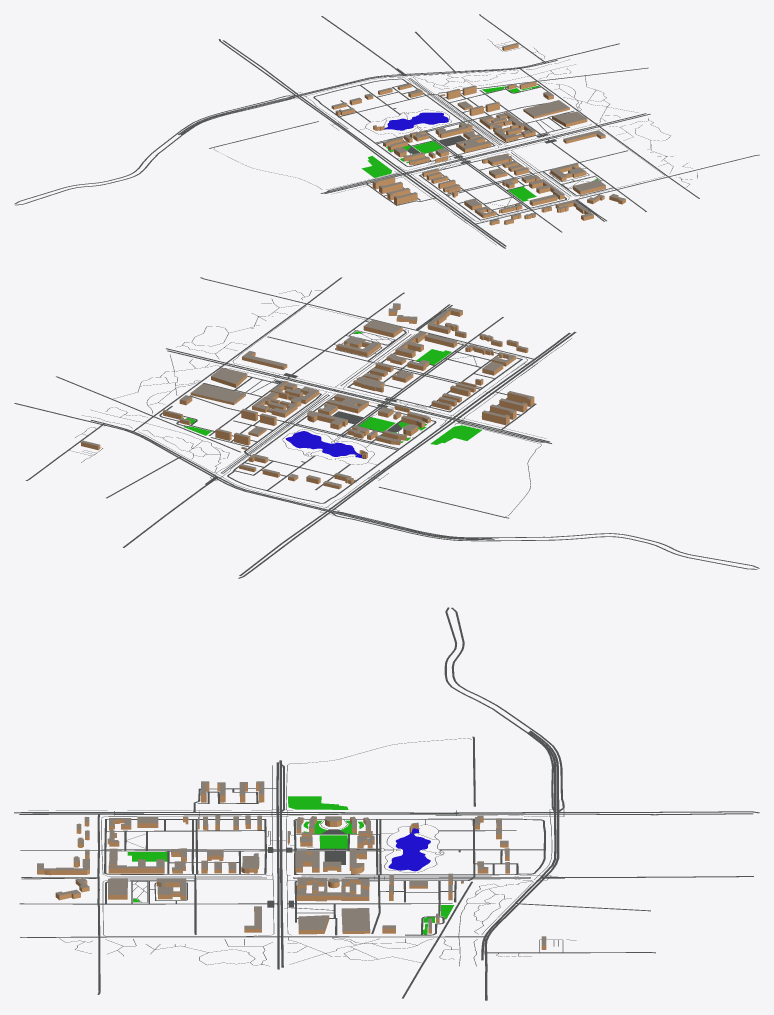
The model's file is LiangxiangMap.glb.
The picture shows the model from 3 angles, top to bottom: view 1: azimuth 30°, elevation 25°; view 2: azimuth 150°, elevation 25°; view 3: azimuth 270°, elevation 25°; orthographic projection. The views are drawn at different scales.
Parts seen in each view (by area): view 1: map.osm_buildings, map.osm_roads_unclassified, map.osm_roads_secondary, map.osm_paths_footway, map.osm_roads_residential, map.osm_roads_tertiary, map.osm_vegetation, map.osm_water, map.osm_roads_service, map.osm_roads_primary; view 2: map.osm_buildings, map.osm_roads_unclassified, map.osm_roads_secondary, map.osm_paths_footway, map.osm_roads_residential, map.osm_roads_tertiary, map.osm_vegetation, map.osm_water, map.osm_roads_service, map.osm_roads_primary; view 3: map.osm_buildings, map.osm_roads_unclassified, map.osm_roads_secondary, map.osm_paths_footway, map.osm_roads_tertiary, map.osm_roads_residential, map.osm_vegetation, map.osm_water, map.osm_roads_service, map.osm_roads_primary.
Boxes of the visible parts, x1,y1,x2,y2 form: map.osm_buildings: (331,43,625,225); map.osm_roads_unclassified: (313,78,627,220); map.osm_roads_secondary: (178,16,650,193); map.osm_paths_footway: (213,39,697,245); map.osm_roads_residential: (14,14,648,205); map.osm_roads_tertiary: (209,31,759,232); map.osm_vegetation: (361,85,598,201); map.osm_water: (380,112,448,130); map.osm_roads_service: (408,78,603,196); map.osm_roads_primary: (403,174,506,248); map.osm_buildings: (81,303,534,489); map.osm_roads_unclassified: (159,318,545,503); map.osm_roads_secondary: (14,348,551,578); map.osm_paths_footway: (69,290,571,516); map.osm_roads_residential: (25,376,759,569); map.osm_roads_tertiary: (106,277,534,518); map.osm_vegetation: (183,331,481,444); map.osm_water: (285,431,364,458); map.osm_roads_service: (221,329,411,473); map.osm_roads_primary: (453,331,576,418); map.osm_buildings: (37,781,546,949); map.osm_roads_unclassified: (99,764,545,935); map.osm_roads_secondary: (276,730,759,1000); map.osm_paths_footway: (28,738,576,966); map.osm_roads_tertiary: (19,736,650,994); map.osm_roads_residential: (193,607,655,998); map.osm_vegetation: (127,796,453,934); map.osm_water: (388,828,430,871); map.osm_roads_service: (110,874,530,913); map.osm_roads_primary: (14,812,276,815).
Size of the model in its own units: 3086 by 32.83 by 2475.
